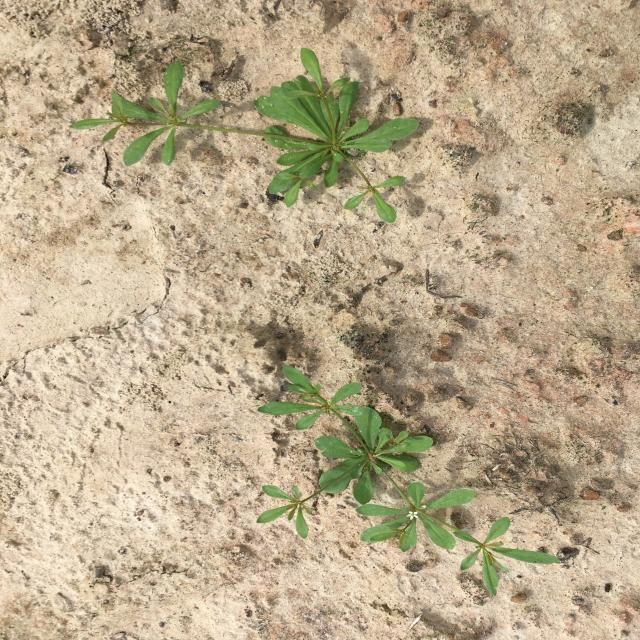Carpetweed: (68, 47, 420, 223)
